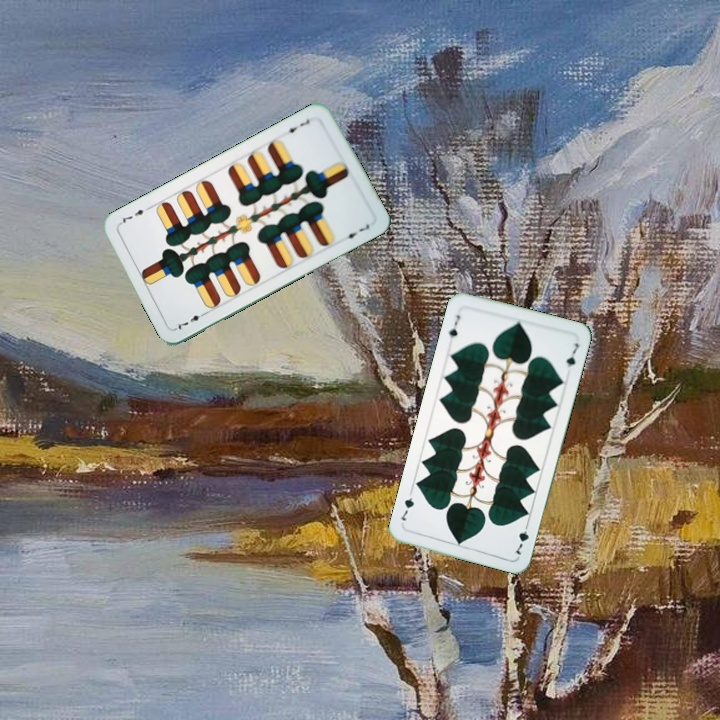E7: (171, 308, 209, 332), (280, 115, 312, 137)
G7: (512, 518, 532, 557), (445, 311, 463, 340)
